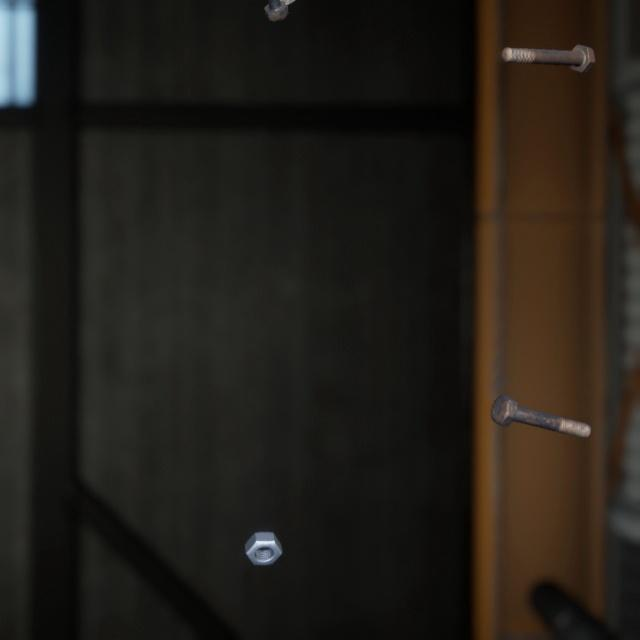bolt: (486, 369, 595, 423), (495, 30, 599, 67)
nut: (240, 504, 287, 547)
